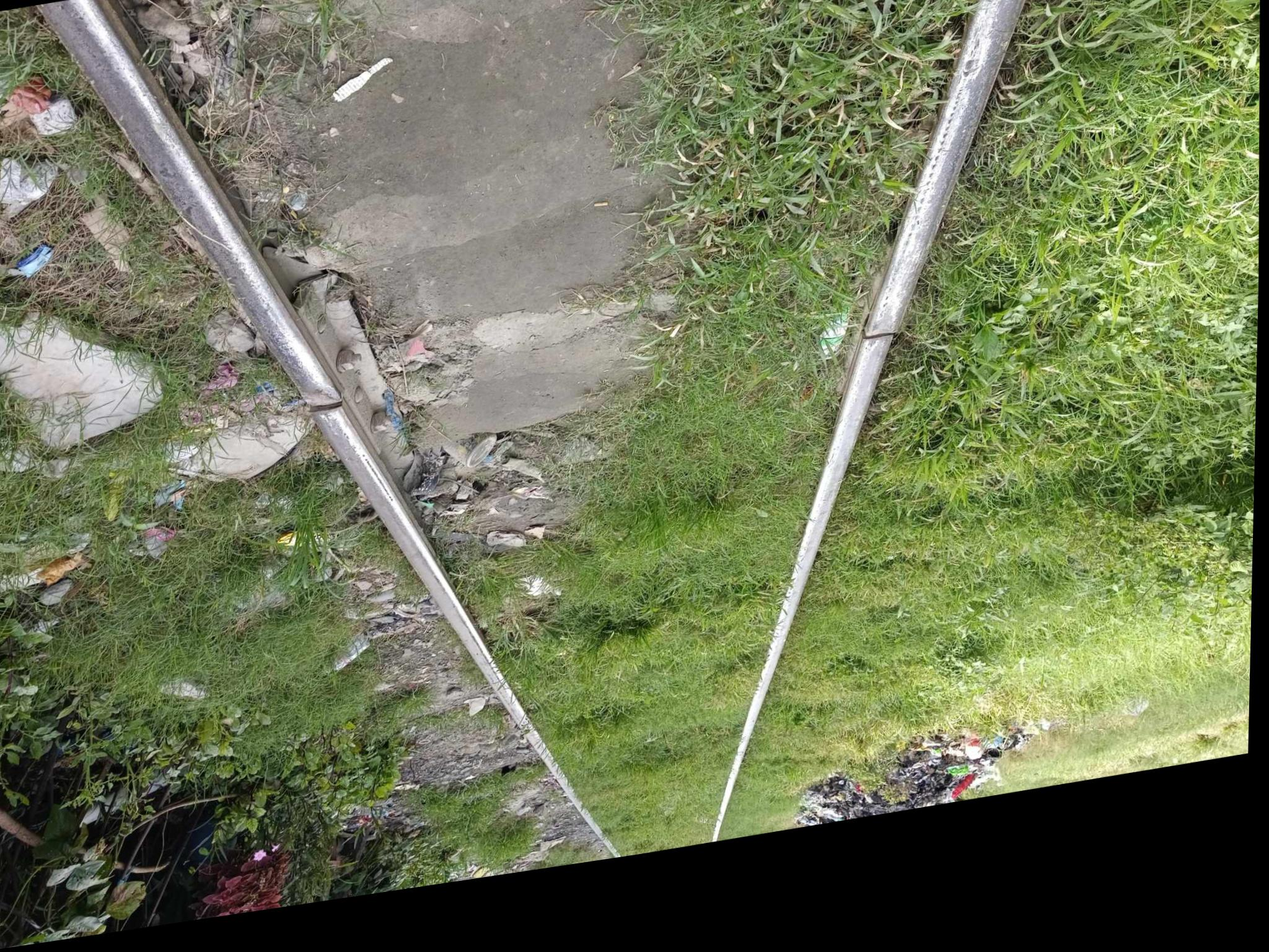person: (835, 317, 928, 405), (288, 376, 371, 451)
